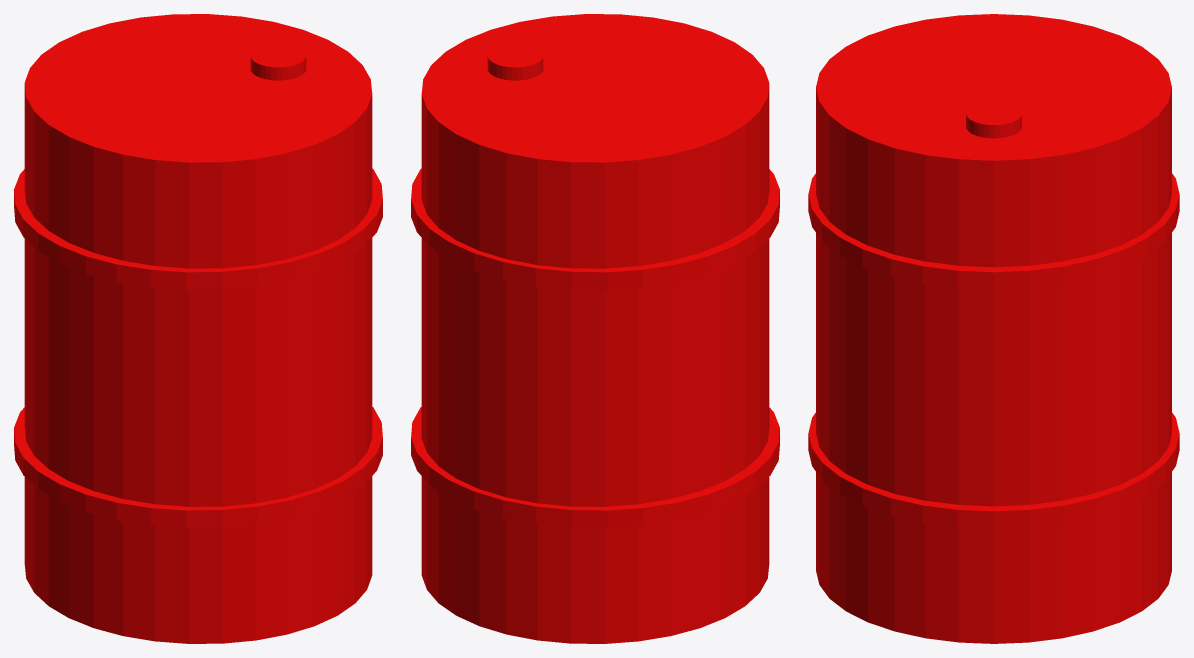
File: ExplosiveBarrel.fbx
3 renders of one model, left to right at view 1: azimuth 30°, elevation 25°; view 2: azimuth 150°, elevation 25°; view 3: azimuth 270°, elevation 25°, orthographic.
Visible parts, largest first — view 1: Cylinder_003; view 2: Cylinder_003; view 3: Cylinder_003.
Part boxes in pixels (left/top/right/bottom): Cylinder_003: left=14, top=14, right=382, bottom=643; Cylinder_003: left=411, top=14, right=779, bottom=643; Cylinder_003: left=808, top=14, right=1179, bottom=643.
Size of the model in its own units: 2.45 by 3.62 by 2.45.
